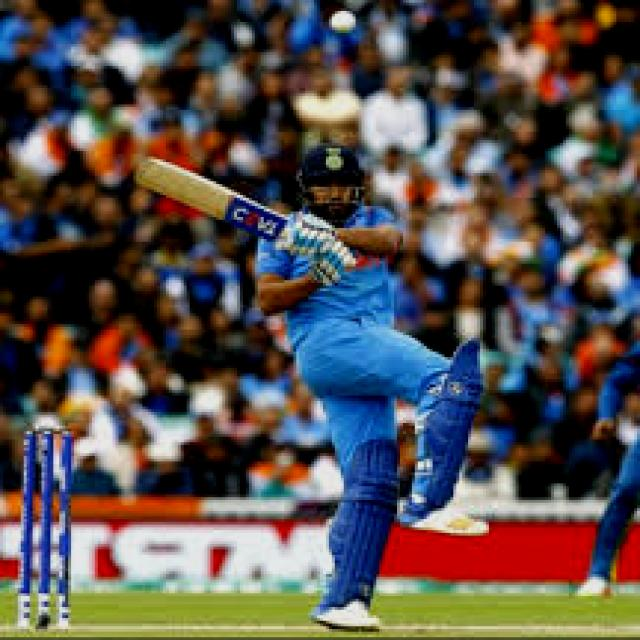toe: (127, 148, 175, 193)
